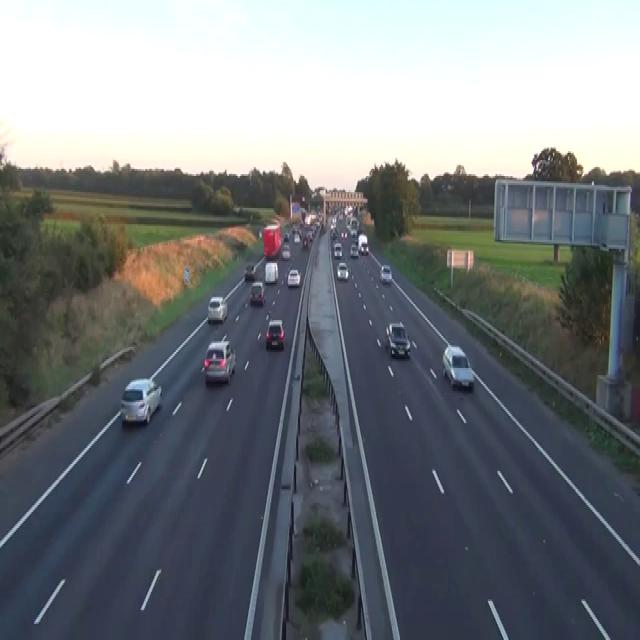Car: (330, 202, 369, 282), (120, 377, 161, 423), (202, 340, 236, 384), (442, 343, 474, 389), (385, 320, 410, 357), (207, 295, 228, 324), (265, 318, 285, 348), (249, 281, 265, 306), (379, 263, 392, 283), (336, 261, 349, 281), (287, 268, 300, 286), (357, 233, 368, 254), (301, 231, 313, 249), (244, 263, 254, 281), (281, 242, 290, 260), (333, 242, 342, 258), (350, 244, 358, 258), (359, 242, 368, 254), (293, 231, 300, 242), (340, 228, 347, 238), (283, 231, 289, 242), (233, 204, 240, 213), (301, 237, 307, 247), (291, 224, 296, 233), (258, 230, 262, 238)
Truck: (263, 222, 280, 258), (264, 261, 278, 283)
